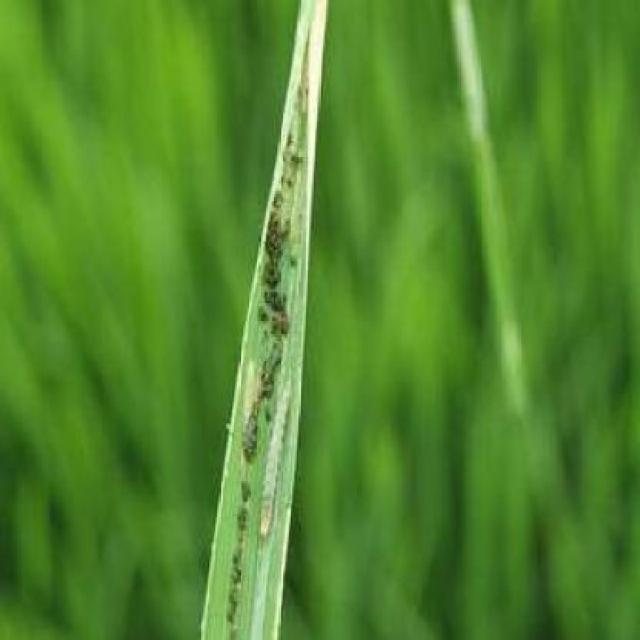leaf-folder: (242, 348, 310, 600), (266, 89, 337, 263)
